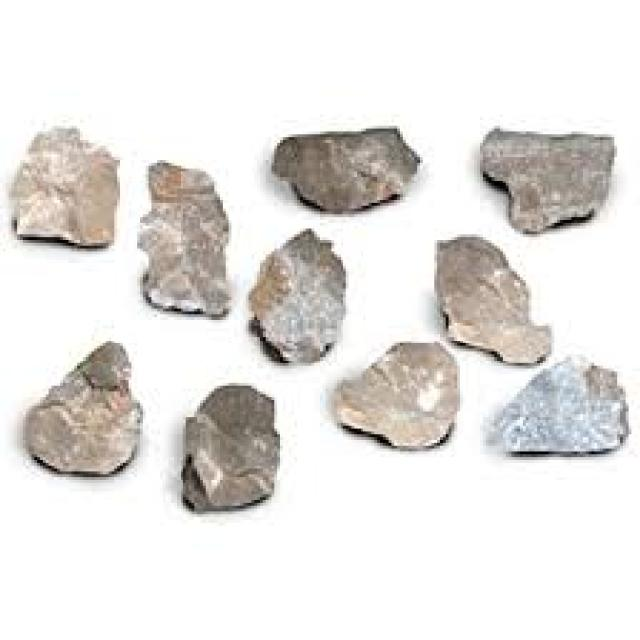Metamorphic: (166, 366, 291, 523), (134, 151, 234, 320), (429, 231, 557, 360), (3, 115, 123, 252), (480, 114, 626, 226), (483, 354, 637, 460), (20, 340, 140, 474), (331, 337, 466, 454), (271, 126, 443, 217), (249, 226, 334, 366)
